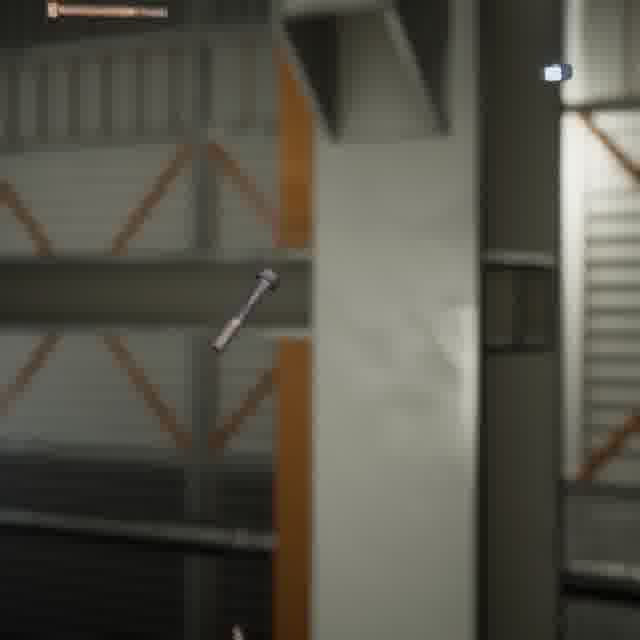bolt: (206, 263, 285, 357), (41, 0, 173, 29)
nut: (536, 58, 576, 85)
